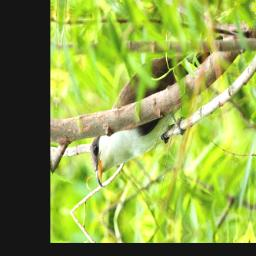Cuckoo: (87, 1, 225, 212)
